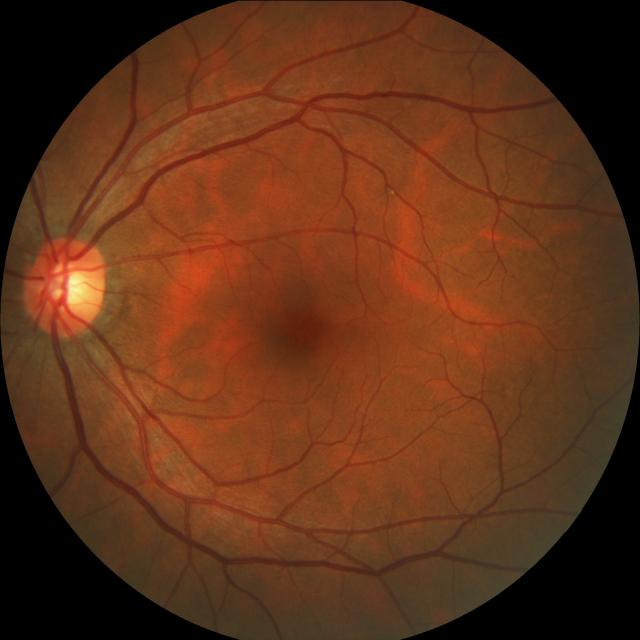OC: (44, 263, 88, 305)
OD: (24, 235, 105, 336)
